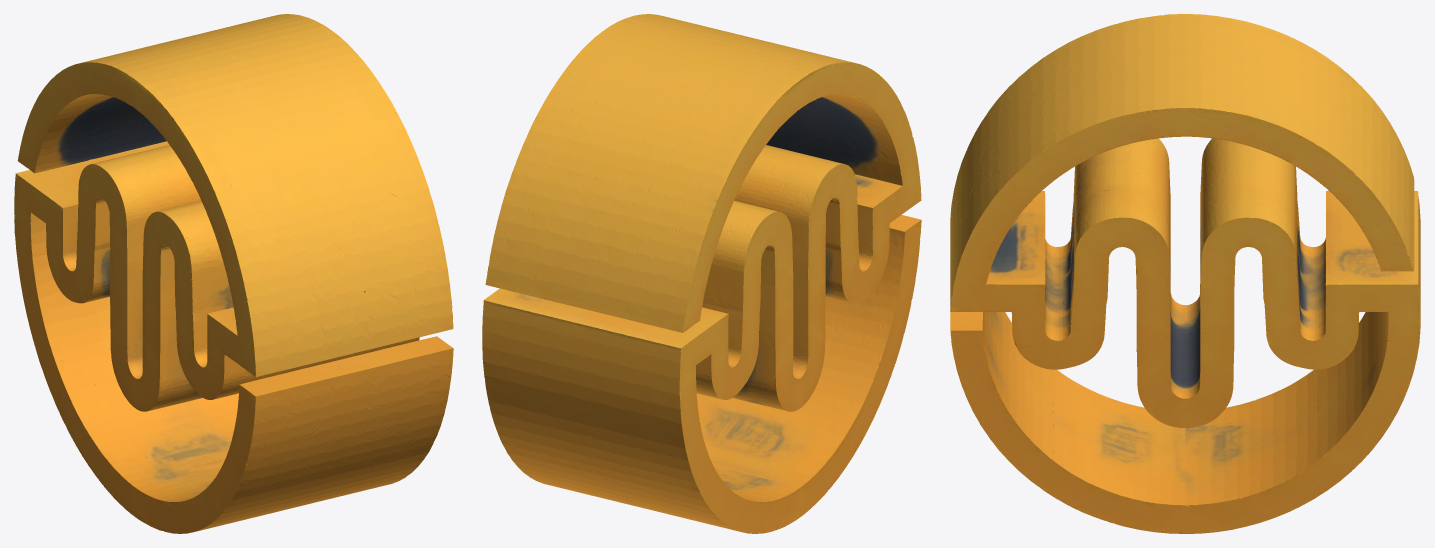
File: mnee.glb
3 renders of one model, left to right at view 1: azimuth 30°, elevation 25°; view 2: azimuth 150°, elevation 25°; view 3: azimuth 270°, elevation 25°, orthographic. The views are drawn at different scales.
Parts seen in each view (by area): view 1: tripo_node_26f4adc5-8199-4426-a744-c5613caffaff; view 2: tripo_node_26f4adc5-8199-4426-a744-c5613caffaff; view 3: tripo_node_26f4adc5-8199-4426-a744-c5613caffaff.
Boxes of the visible parts, x1=… form: tripo_node_26f4adc5-8199-4426-a744-c5613caffaff: x1=14, y1=14, x2=453, y2=533; tripo_node_26f4adc5-8199-4426-a744-c5613caffaff: x1=482, y1=14, x2=921, y2=533; tripo_node_26f4adc5-8199-4426-a744-c5613caffaff: x1=950, y1=14, x2=1420, y2=533.
Bounding box in the file's own units: 0.474 × 1 × 1.
Materials: 1 (1 with a texture image).
